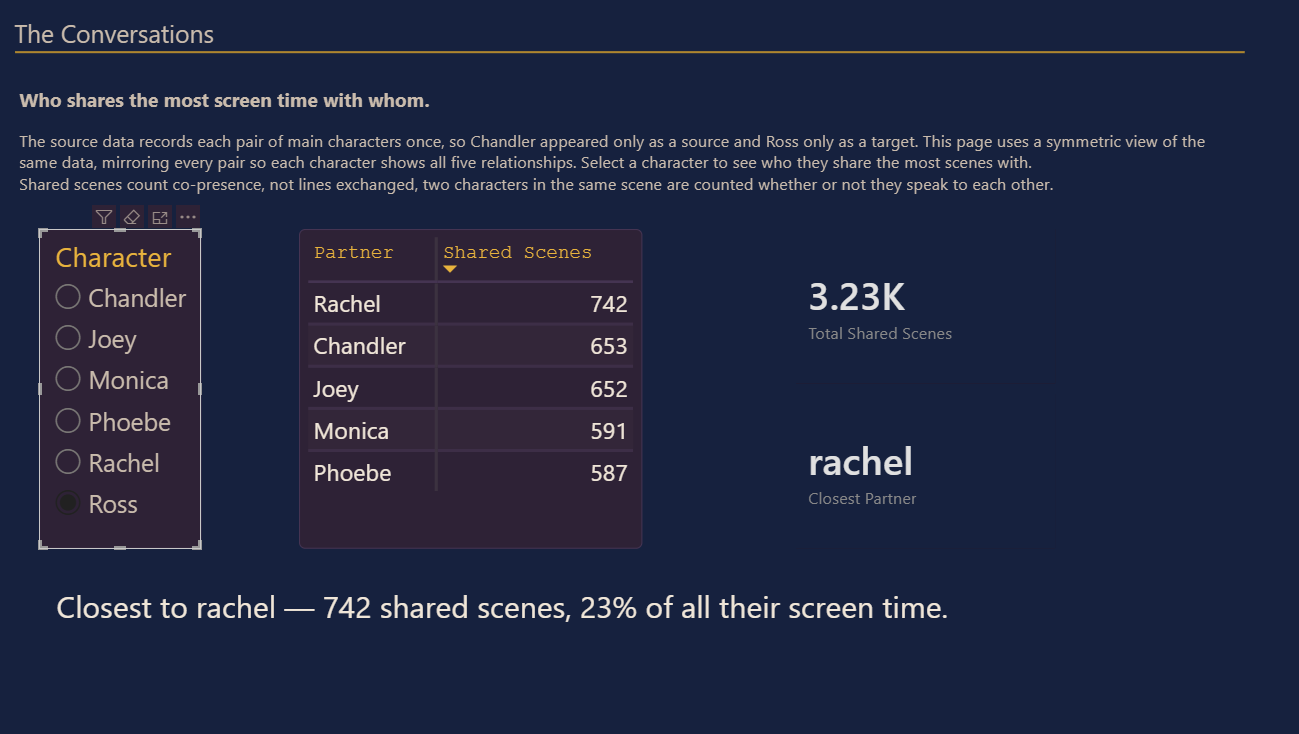

The page's visual inventory and layout, read from the dashboard file:
{"tool":"powerbi","page":{"name":"The Conversations","canvas":[1280,720],"ordinal":1},"visuals":[{"type":"textbox","box":[13.6,15.6,230.5,68.1],"z":0},{"type":"shape","box":[17.5,49.6,1200,12],"z":1000},{"type":"slicer","fields":{"Values":["DimCharacter.Name"]},"box":[42.8,227.6,157.6,311.2],"z":2000},{"type":"tableEx","fields":{"Values":["InteractionsFull.Partner Name","Sum(InteractionsFull.SharedScenes)"]},"box":[295.7,227.6,333.6,311.2],"z":3000},{"type":"cardVisual","fields":{"Data":["_Measures.Total Shared Scenes"]},"box":[779.1,227.6,252,150],"z":4000},{"type":"cardVisual","fields":{"Data":["Dialogue.Closest Partner"]},"box":[779.1,388.1,252.9,150.8],"z":5000},{"type":"cardVisual","fields":{"Data":["Dialogue.Interaction Insight"]},"box":[42.8,555.4,1149.7,84.6],"z":6000},{"type":"textbox","box":[18.5,83.6,1199.3,132.3],"z":6001}]}

Visuals, with their boxes in screenshot pixels (x1, y1, x2, y2), scaled from the page's 1280x720 canvas onto the 1299x734 screenshot:
textbox: (14,16,248,85)
shape: (18,51,1236,63)
slicer - DimCharacter.Name: (43,232,203,549)
tableEx - InteractionsFull.Partner Name x Sum(InteractionsFull.SharedScenes): (300,232,639,549)
cardVisual - _Measures.Total Shared Scenes: (791,232,1046,385)
cardVisual - Dialogue.Closest Partner: (791,396,1047,549)
cardVisual - Dialogue.Interaction Insight: (43,566,1210,652)
textbox: (19,85,1236,220)
